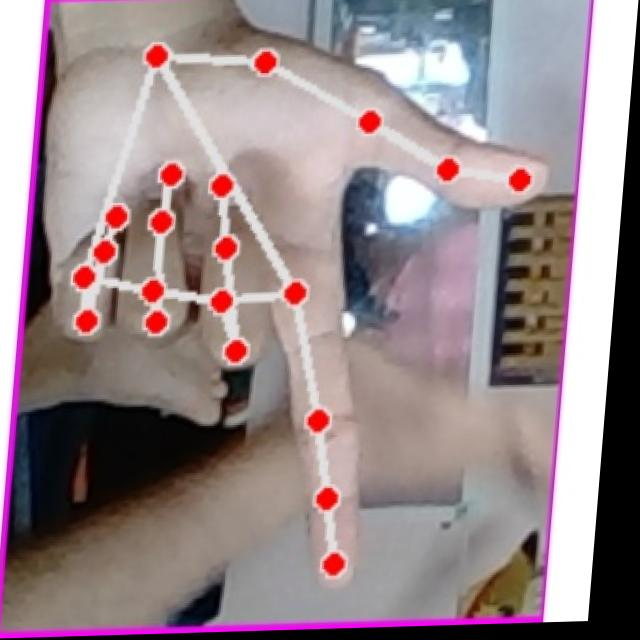L: (26, 19, 573, 612)
